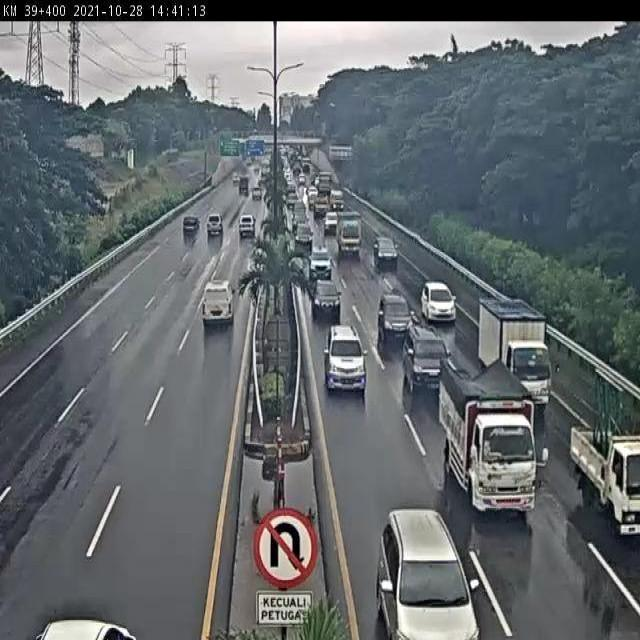car: (377, 508, 481, 640), (403, 328, 450, 397), (322, 317, 364, 383), (195, 291, 234, 345), (373, 289, 412, 336), (421, 282, 459, 326), (310, 273, 340, 315)
mid truck: (437, 361, 537, 519), (478, 299, 552, 413), (570, 423, 640, 532), (307, 244, 333, 277)
